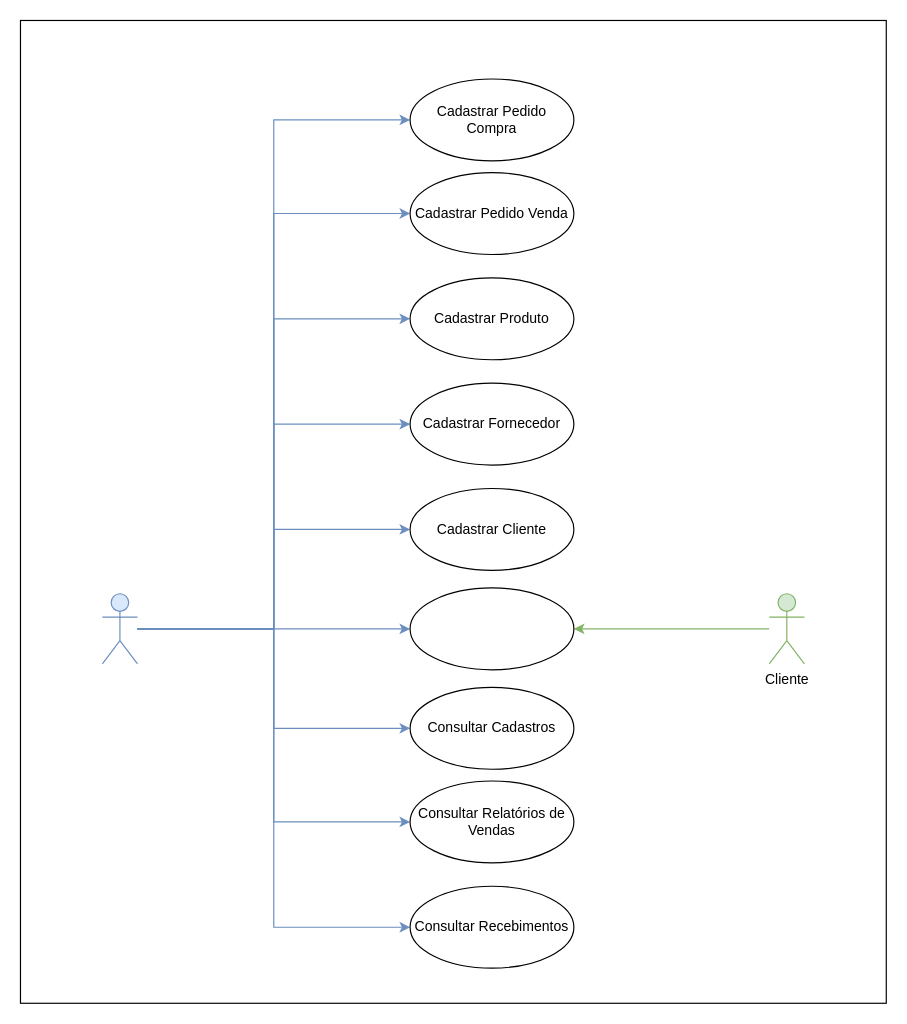
Some shapes in this 907 by 1024 pixel diagram are drawn without their labels. Here are the shapes that lost their labels. From the top down, the centre of each, then its label:
At [119,628]: "Vendedor(a)".
At [491,628]: "Consultar Débitos".
